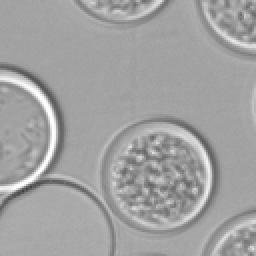picoshell: (98, 118, 216, 236), (0, 174, 114, 254), (0, 64, 62, 192), (196, 0, 254, 56), (74, 0, 166, 26), (202, 208, 254, 254)
